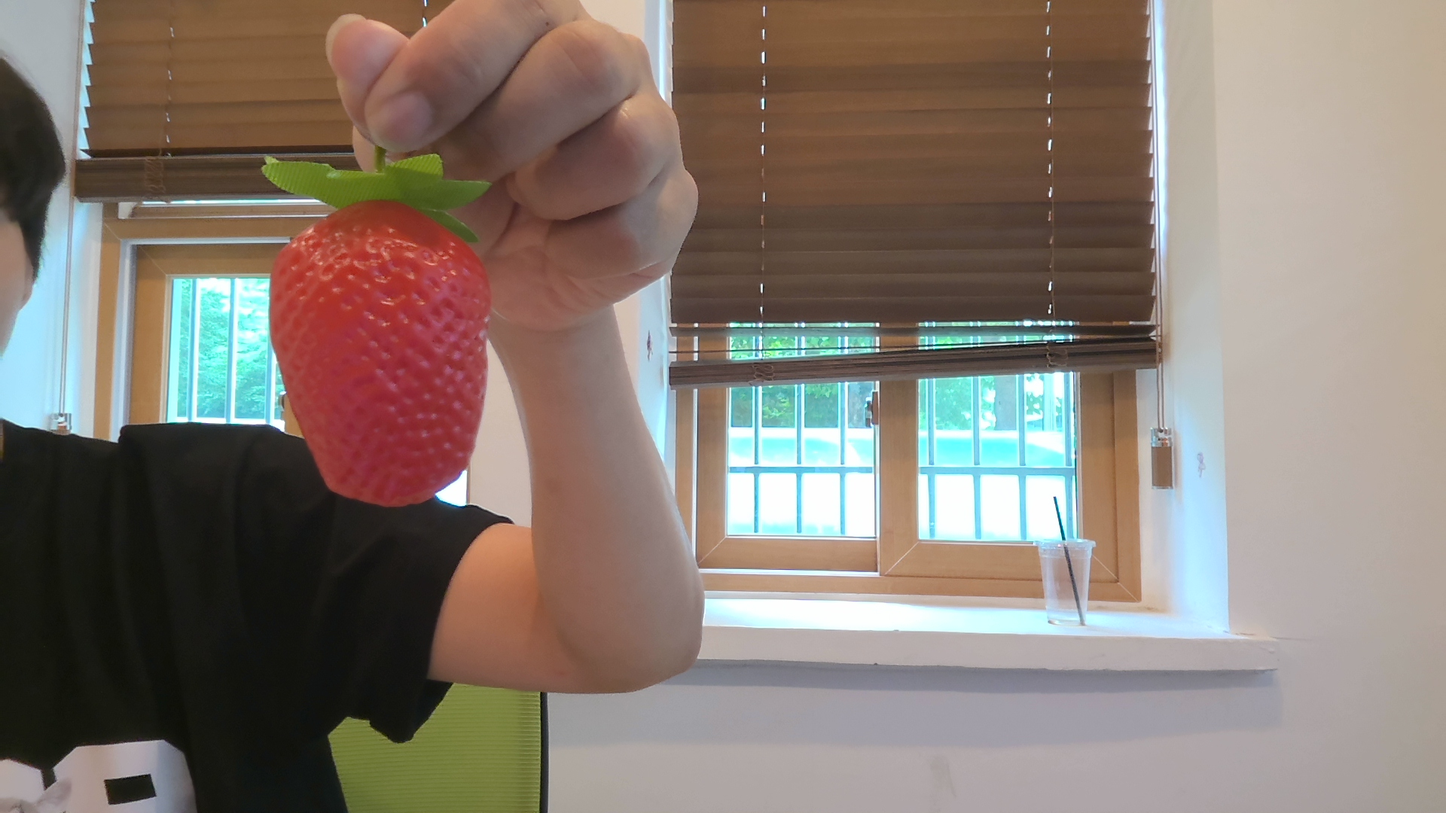strawberry: (254, 182, 504, 510)
